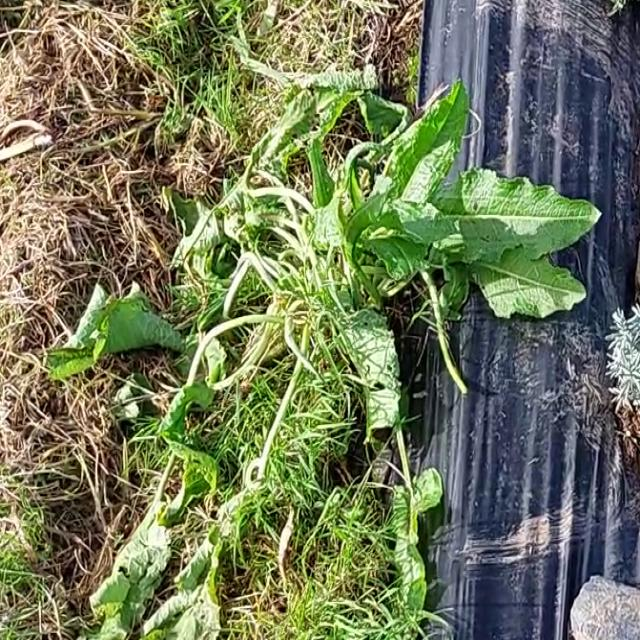organic waste: (141, 94, 602, 373), (73, 339, 288, 640), (29, 243, 311, 447)
